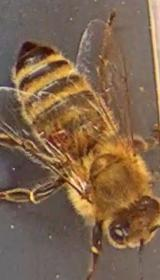varroa_mite: (40, 118, 76, 152)
